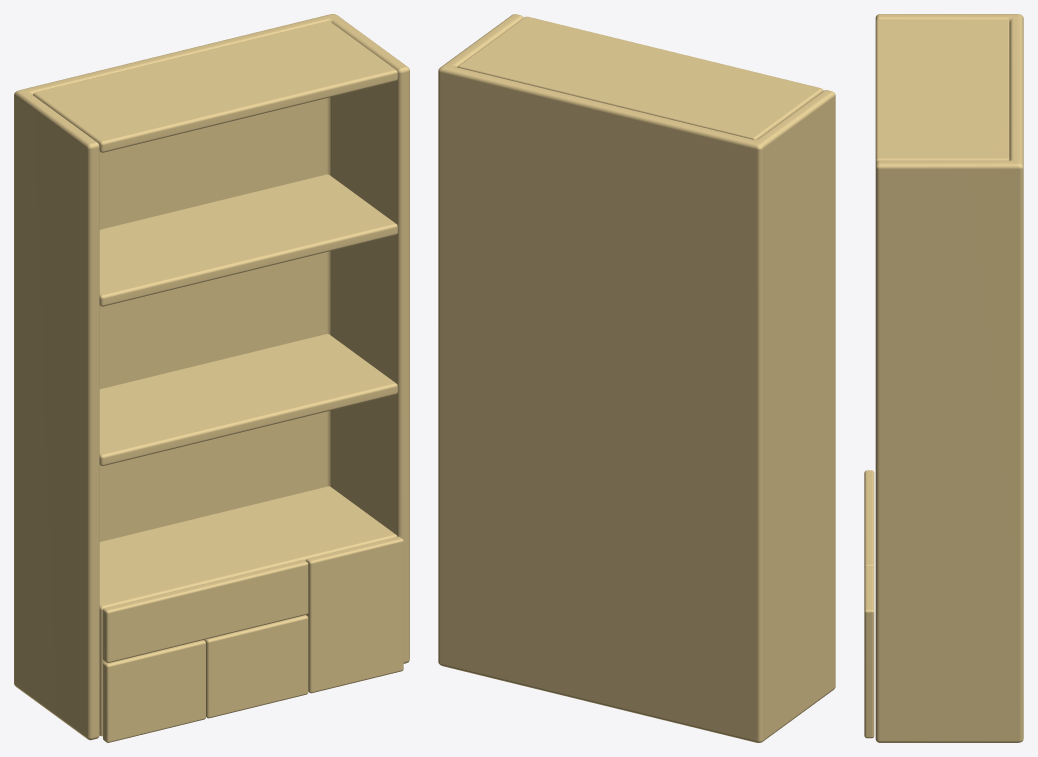
File: toy_shelf.fbx
3 views of the same model, side by side, from view 1: azimuth 30°, elevation 25°; view 2: azimuth 150°, elevation 25°; view 3: azimuth 270°, elevation 25° (orthographic). The views are drawn at different scales.
Visible parts, largest first — view 1: body, tawtsan1, tawtsan2; view 2: body; view 3: body.
Boxes of the visible parts, bbox=[...] form: body: bbox=[14, 14, 409, 742]; tawtsan1: bbox=[99, 174, 397, 306]; tawtsan2: bbox=[99, 334, 397, 466]; body: bbox=[438, 14, 835, 742]; body: bbox=[864, 14, 1023, 742].
Bounding box in the file's own units: 84.2 × 149 × 37.04.
